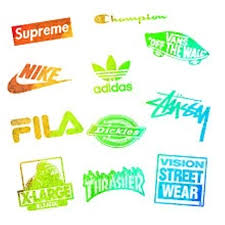adidas: (91, 56, 134, 94)
nike: (7, 74, 72, 95)
vans: (164, 32, 189, 47)
